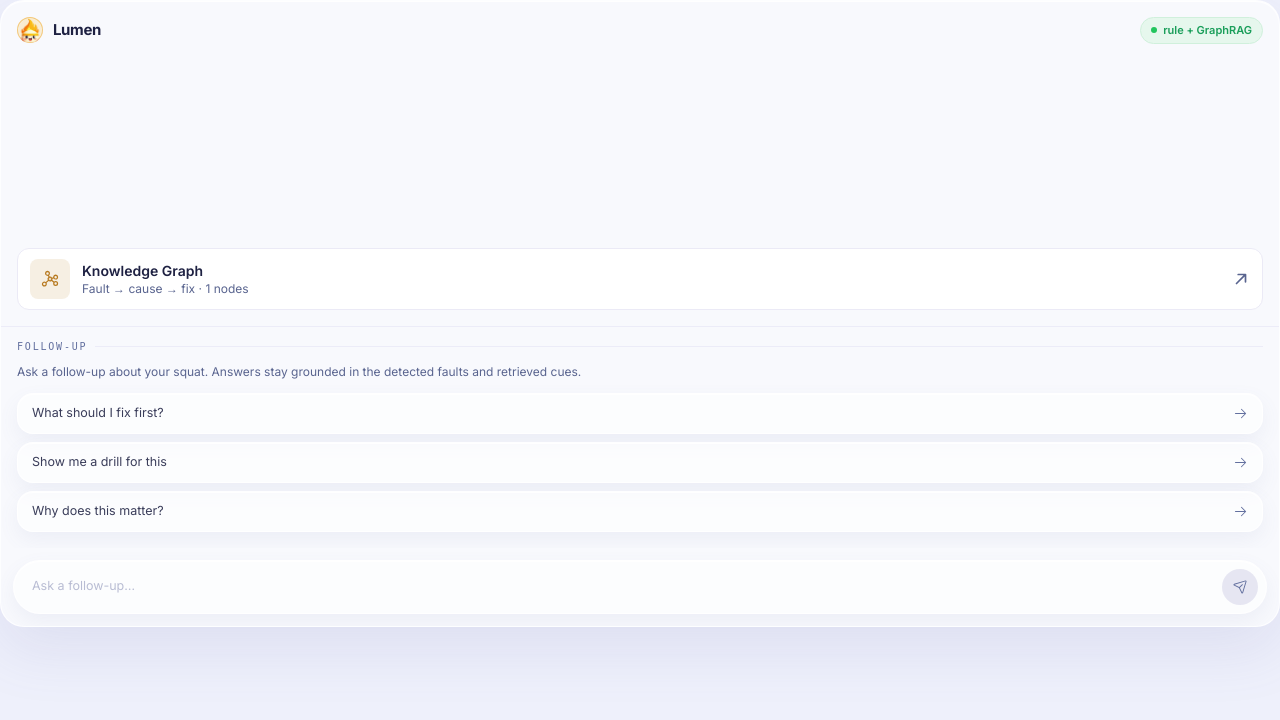
Test case: CoachTray — follow-up chat › keeps tool records visible after the answer starts streaming
Type "why?" into the field with placeholder "Ask a follow-up…" at (618, 586), box top-left (22, 577), bottom-right (1214, 596)
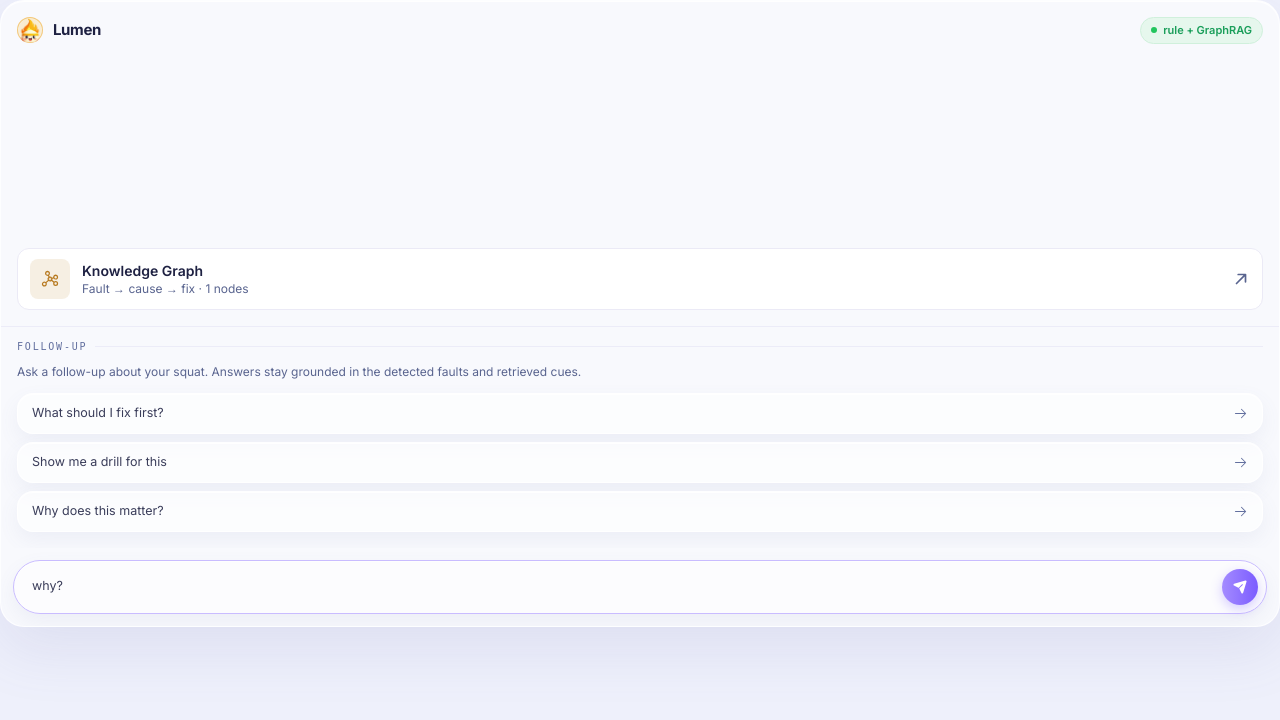
Click the button named "Send message" at (1240, 586), box top-left (1222, 568), bottom-right (1258, 604)
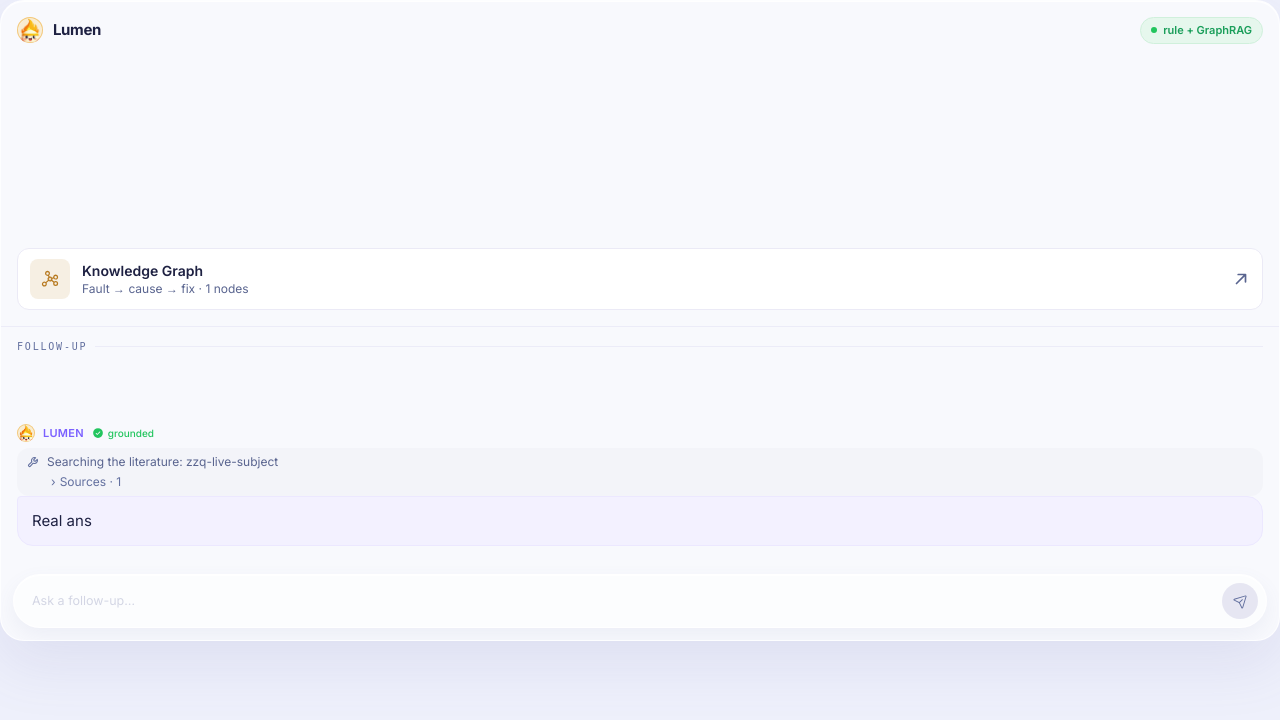
Check: the text "Real ans" is shown, box top-left (32, 511), bottom-right (92, 530)
Check: the text "Searching the literature: zzq-live-subject" is shown, box top-left (27, 454), bottom-right (278, 469)
Click the button "› Sources · 1" at (86, 482), box top-left (51, 474), bottom-right (121, 490)
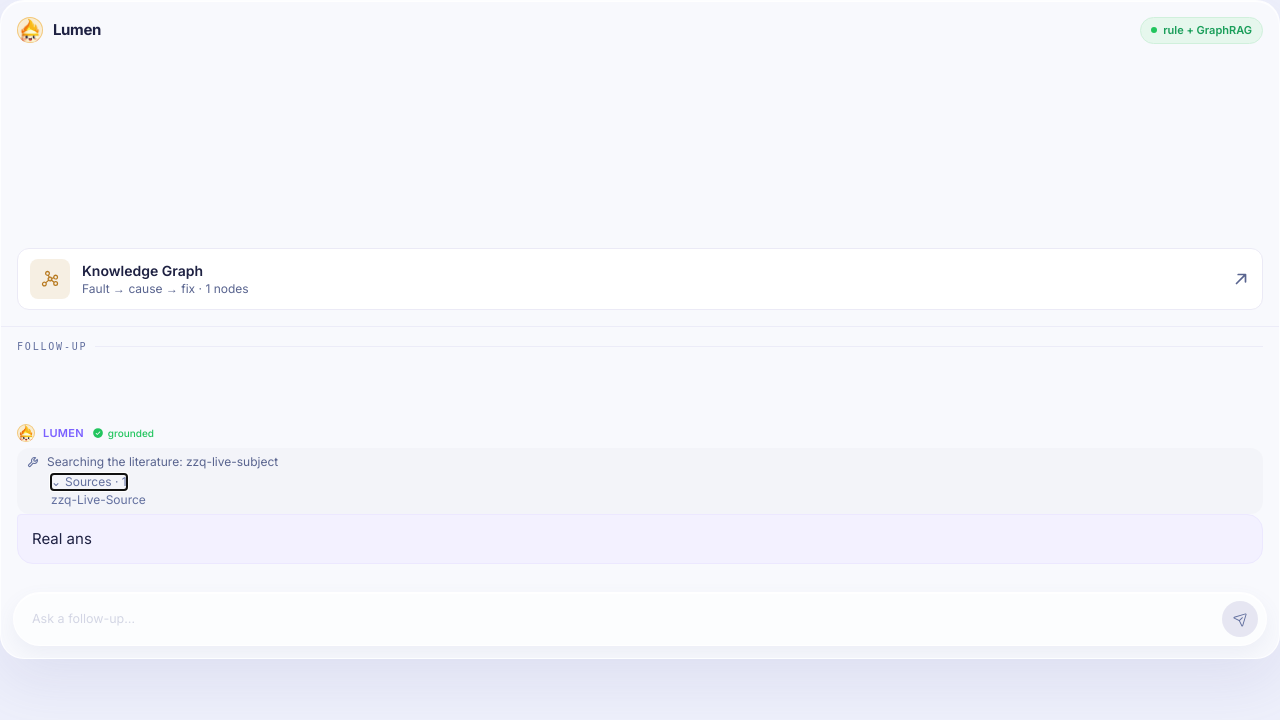
Check: the text "zzq-Live-Source" is shown, box top-left (51, 492), bottom-right (146, 507)
